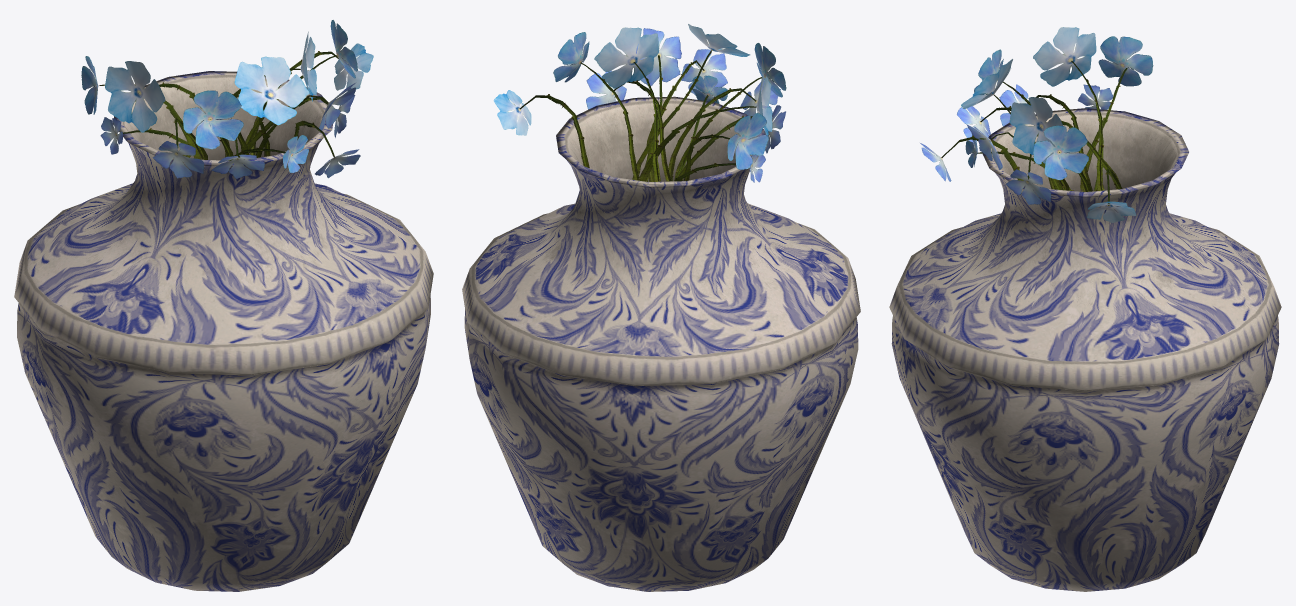
Rendered from M_Pervanche.fbx.
The picture shows the model from 3 angles, left to right: view 1: azimuth 30°, elevation 25°; view 2: azimuth 150°, elevation 25°; view 3: azimuth 270°, elevation 25°; orthographic projection. The views are drawn at different scales.
Visible parts, largest first — view 1: S_Vase, M_Pervanche; view 2: S_Vase, M_Pervanche; view 3: S_Vase, M_Pervanche.
Part boxes in pixels (<box>): S_Vase: <box>14,71,433,591</box>; M_Pervanche: <box>81,20,373,178</box>; S_Vase: <box>462,96,860,591</box>; M_Pervanche: <box>493,24,786,182</box>; S_Vase: <box>889,108,1281,591</box>; M_Pervanche: <box>920,27,1153,222</box>.
Bounding box in the file's own units: 20.73 × 29.37 × 20.73.
